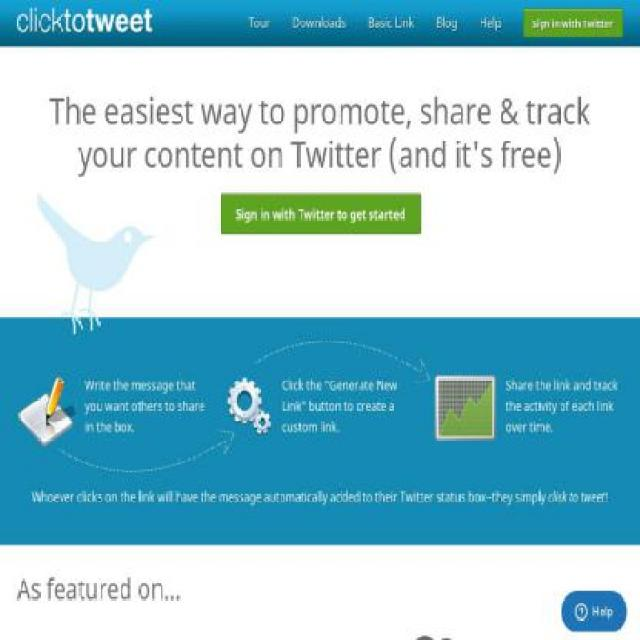button: (219, 194, 421, 234), (15, 0, 155, 38), (522, 7, 624, 38), (282, 11, 356, 35), (359, 11, 423, 35), (238, 11, 280, 35), (426, 11, 468, 35), (469, 11, 511, 35)
